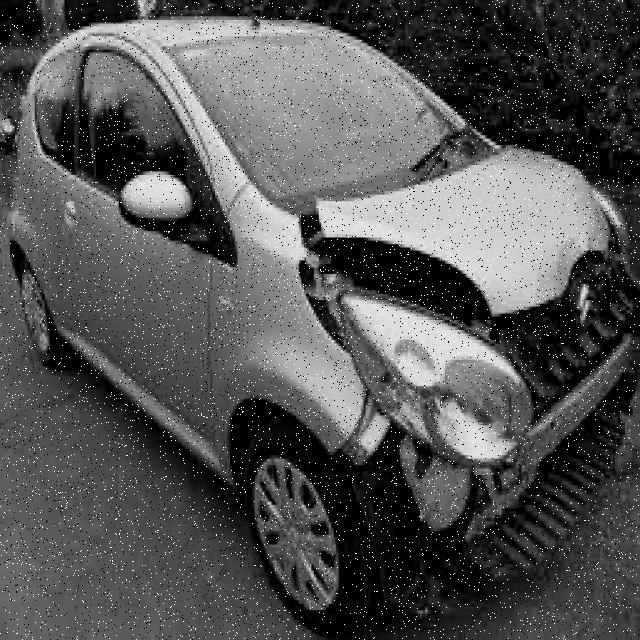car damage: (295, 198, 640, 614)
